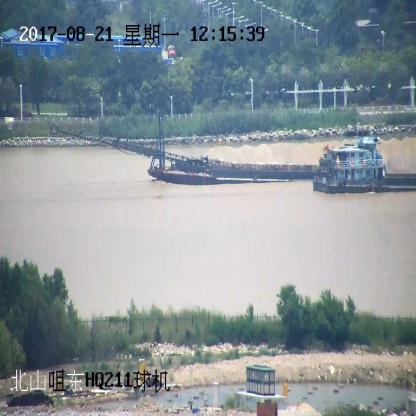Bulk Carrier: (313, 147, 416, 190)
